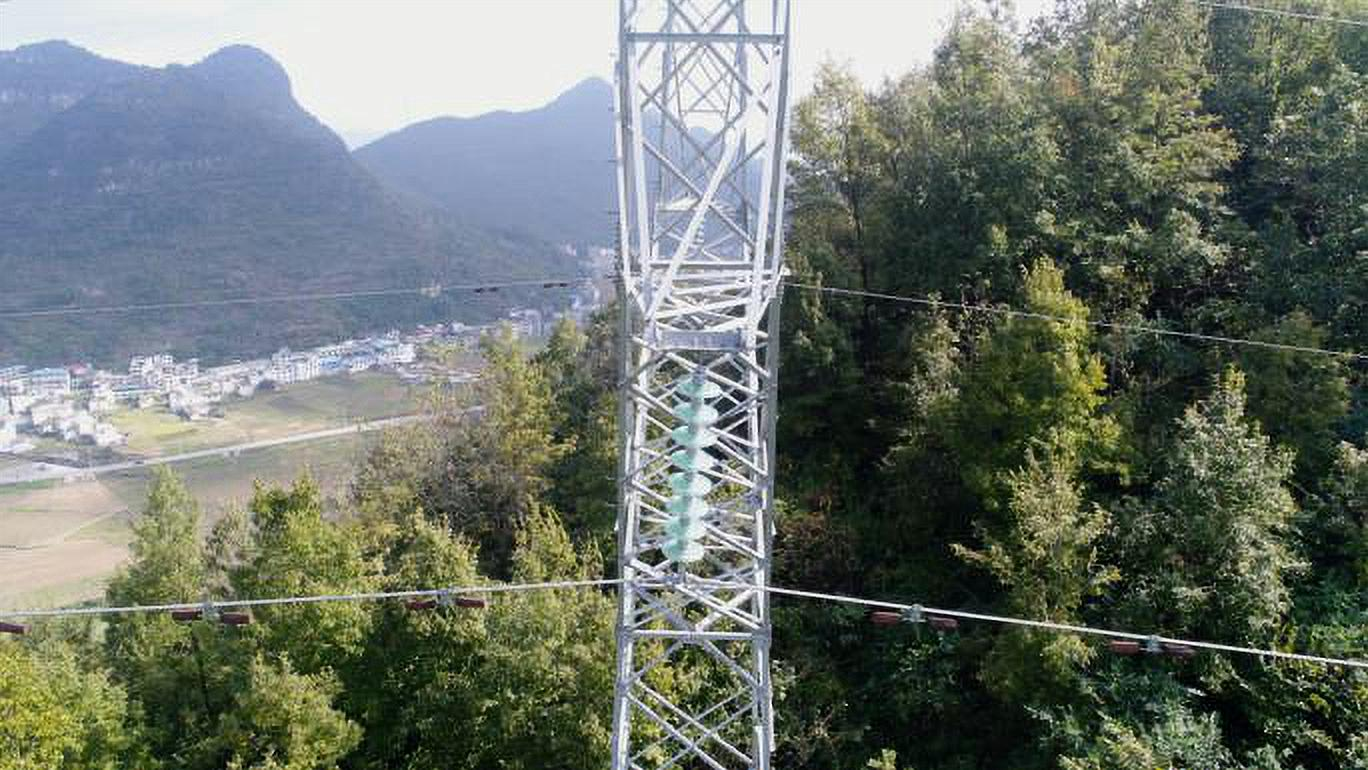insulator: (655, 366, 731, 569)
